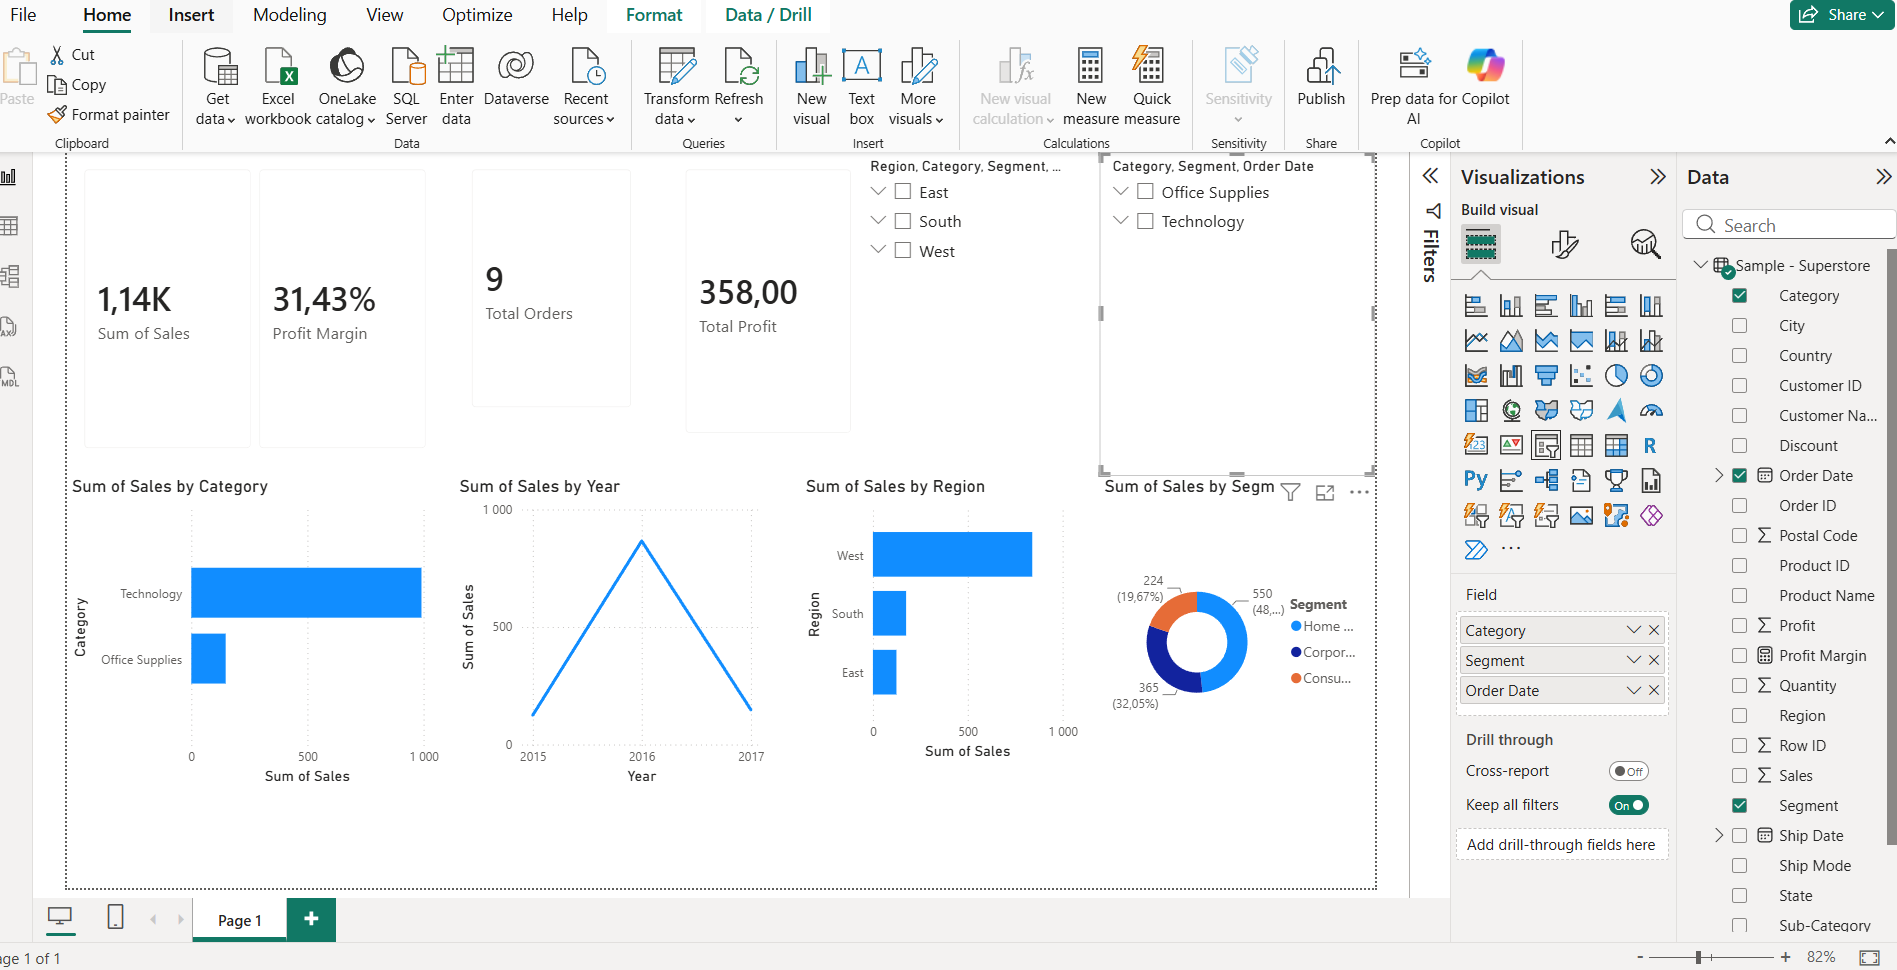

This screenshot's page, from the dashboard's own definition file:
{"tool":"powerbi","page":{"name":"Page 1","canvas":[1280,720],"ordinal":0},"visuals":[{"type":"cardVisual","fields":{"Data":["Sum(Sample - Superstore.Sales)","Sample - Superstore.Profit Margin"]},"box":[0,0,369.1,307.4],"z":0},{"type":"cardVisual","fields":{"Data":["Sample - Superstore.Total Orders"]},"box":[379.1,0,190.8,267.8],"z":1},{"type":"cardVisual","fields":{"Data":["Sample - Superstore.Total Profit"]},"box":[588.2,0,196.9,292.3],"z":2},{"type":"clusteredBarChart","fields":{"Y":["Sum(Sample - Superstore.Sales)"],"Category":["Sample - Superstore.Category"]},"box":[0,317,369,307],"z":3},{"type":"lineChart","fields":{"Category":["Sample - Superstore.Order Date.Variation.Date Hierarchy.Year","Sample - Superstore.Order Date.Variation.Date Hierarchy.Quarter","Sample - Superstore.Order Date.Variation.Date Hierarchy.Month","Sample - Superstore.Order Date.Variation.Date Hierarchy.Day"],"Y":["Sum(Sample - Superstore.Sales)"]},"box":[379.1,316.7,308.2,306.9],"z":4},{"type":"clusteredBarChart","fields":{"Category":["Sample - Superstore.Region"],"Y":["Sum(Sample - Superstore.Sales)"]},"box":[717.8,316.7,276.4,282.5],"z":5},{"type":"donutChart","fields":{"Y":["Sum(Sample - Superstore.Sales)"],"Category":["Sample - Superstore.Segment"]},"box":[1010.1,316.7,270.2,306.9],"z":6},{"type":"slicer","fields":{"Values":["Sample - Superstore.Region","Sample - Superstore.Category"]},"box":[772.8,0,221.3,316.7],"z":7},{"type":"slicer","fields":{"Values":["Sample - Superstore.Category","Sample - Superstore.Segment","Sample - Superstore.Order Date"]},"box":[1010,0,270,317],"z":8}]}

Visuals, with their boxes on the page's 1280x720 design canvas (x1, y1, x2, y2). These are canvas units, not pixel positions in the 1897x970 screenshot, which may show the page scaled, cropped or inside an application window:
cardVisual - Sum(Sample - Superstore.Sales) x Sample - Superstore.Profit Margin: 0:0:369:307
cardVisual - Sample - Superstore.Total Orders: 379:0:570:268
cardVisual - Sample - Superstore.Total Profit: 588:0:785:292
clusteredBarChart - Sum(Sample - Superstore.Sales) x Sample - Superstore.Category: 0:317:369:624
lineChart - Sample - Superstore.Order Date.Variation.Date Hierarchy.Year x Sample - Superstore.Order Date.Variation.Date Hierarchy.Quarter: 379:317:687:624
clusteredBarChart - Sample - Superstore.Region x Sum(Sample - Superstore.Sales): 718:317:994:599
donutChart - Sum(Sample - Superstore.Sales) x Sample - Superstore.Segment: 1010:317:1280:624
slicer - Sample - Superstore.Region x Sample - Superstore.Category: 773:0:994:317
slicer - Sample - Superstore.Category x Sample - Superstore.Segment: 1010:0:1280:317
